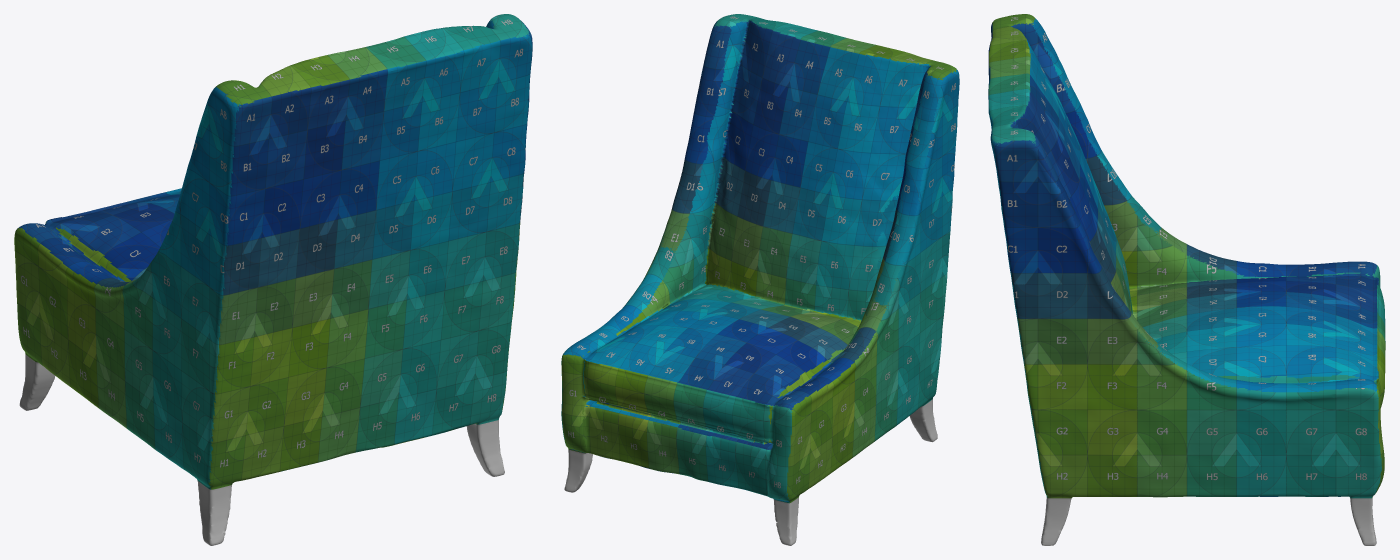
File: ZowieChair_AIV2.glb
3 views of the same model, side by side, from view 1: azimuth 30°, elevation 25°; view 2: azimuth 150°, elevation 25°; view 3: azimuth 270°, elevation 25° (orthographic). The views are drawn at different scales.
Parts seen in each view (by area): view 1: ZowieLounge; view 2: ZowieLounge; view 3: ZowieLounge.
Boxes of the visible parts, bbox=[...] form: ZowieLounge: bbox=[14, 14, 532, 545]; ZowieLounge: bbox=[561, 14, 959, 545]; ZowieLounge: bbox=[988, 14, 1385, 545].
Size of the model in its own units: 0.7681 by 1.13 by 0.9928.
2 materials, 1 textured.
